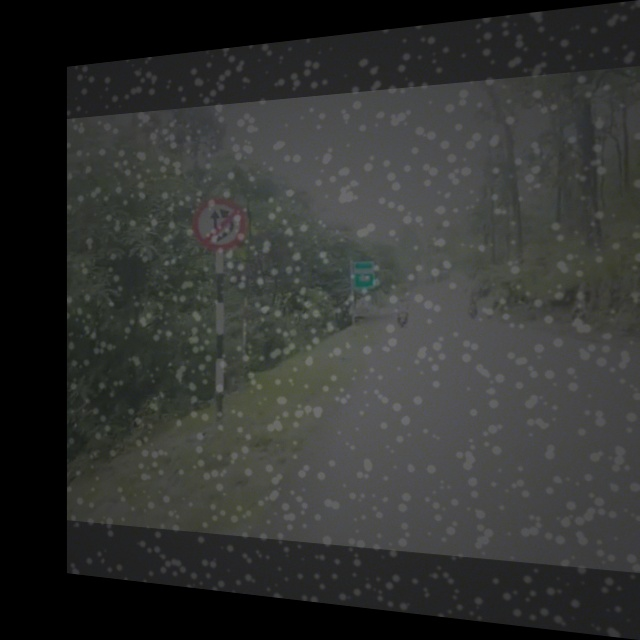Overtaking_Prohibited: (192, 197, 245, 251)
